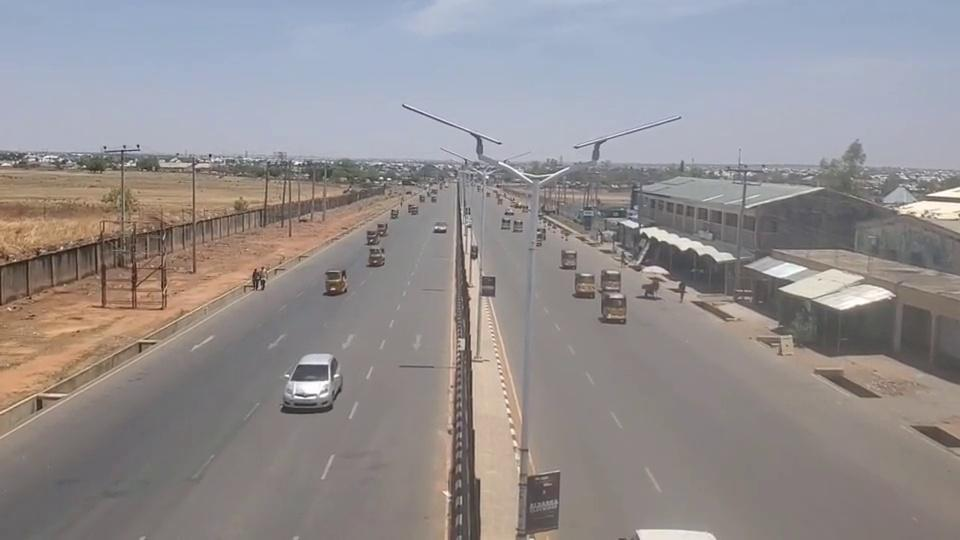car: (283, 352, 341, 409)
keke: (600, 291, 626, 322), (324, 268, 347, 294), (573, 271, 595, 297), (600, 268, 621, 292), (367, 247, 385, 267), (561, 249, 577, 269)
